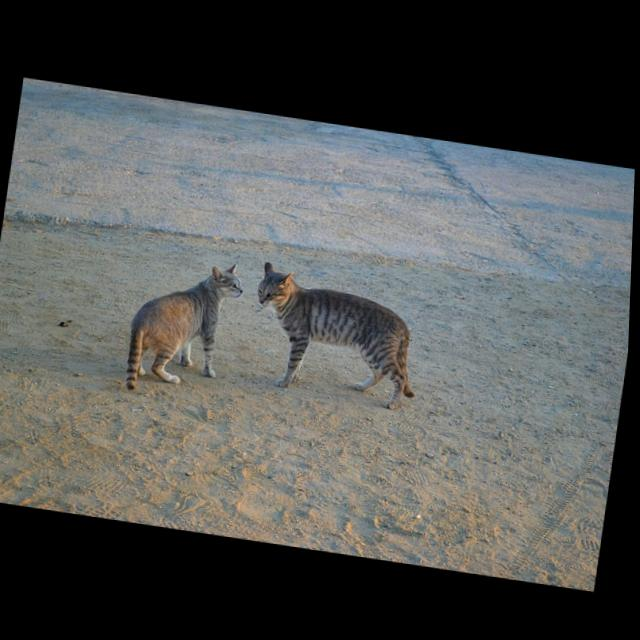animals: (259, 261, 418, 406), (129, 262, 244, 390)
